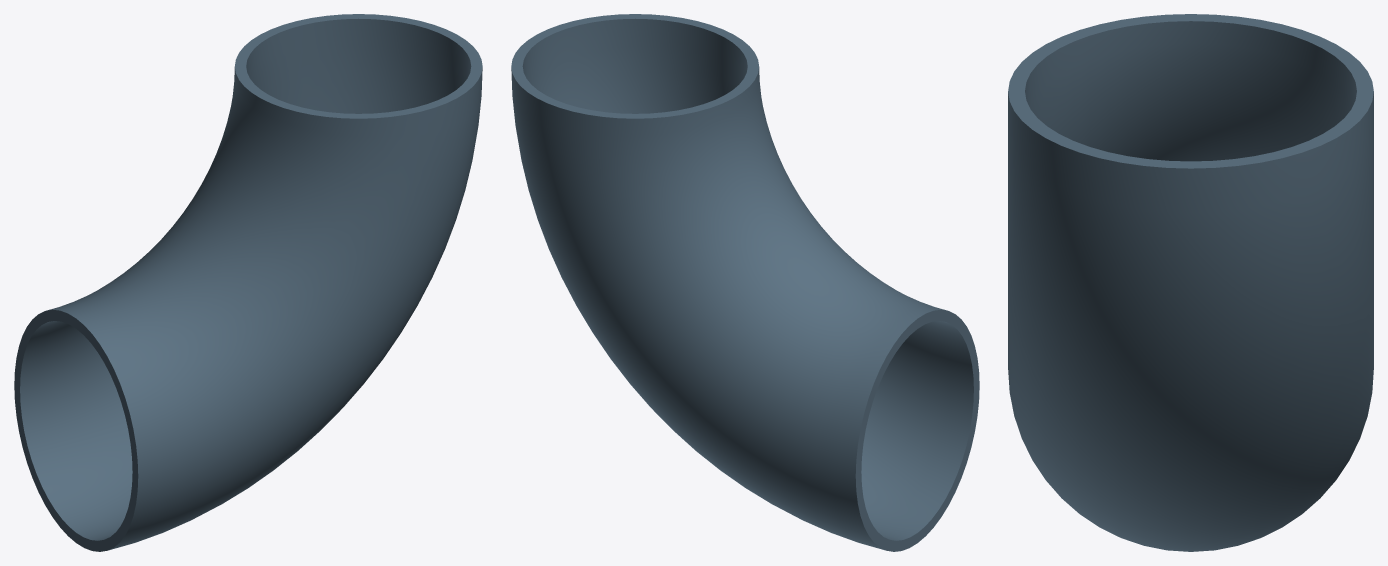
Rendered from otvod-90-76x3_5-R100.glb.
3 renders of one model, left to right at view 1: azimuth 30°, elevation 25°; view 2: azimuth 150°, elevation 25°; view 3: azimuth 270°, elevation 25°, orthographic. The views are drawn at different scales.
Visible parts, largest first — view 1: Open CASCADE STEP translator 7.9 21; view 2: Open CASCADE STEP translator 7.9 21; view 3: Open CASCADE STEP translator 7.9 21.
Boxes of the visible parts, x1,y1,x2,y2 form: Open CASCADE STEP translator 7.9 21: (14, 14, 482, 551); Open CASCADE STEP translator 7.9 21: (511, 14, 979, 551); Open CASCADE STEP translator 7.9 21: (1008, 14, 1373, 551).
Size of the model in its own units: 138 by 138 by 76.
